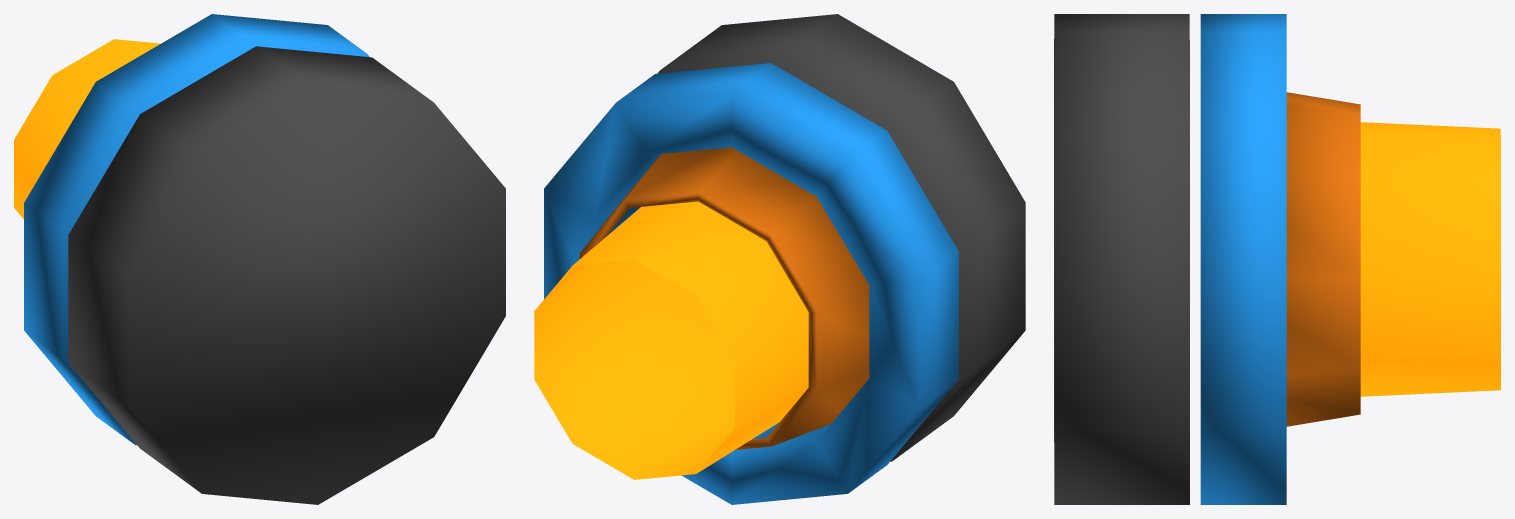
File: boost.glb
The picture shows the model from 3 angles, left to right: view 1: azimuth 30°, elevation 25°; view 2: azimuth 150°, elevation 25°; view 3: azimuth 270°, elevation 25°; orthographic projection. The views are drawn at different scales.
Visible parts, largest first — view 1: boost.004, boost-part.014; view 2: boost.004, boost-part.014; view 3: boost.004, boost-part.014.
Part boxes in pixels (x1,y1,x2,y2): boost.004: (24, 14, 505, 504); boost-part.014: (14, 39, 160, 218); boost.004: (544, 14, 1025, 504); boost-part.014: (534, 201, 808, 479); boost.004: (1054, 14, 1360, 504); boost-part.014: (1360, 122, 1500, 396).
Bounding box in the file's own units: 0.1451 × 0.1525 × 0.1362.
